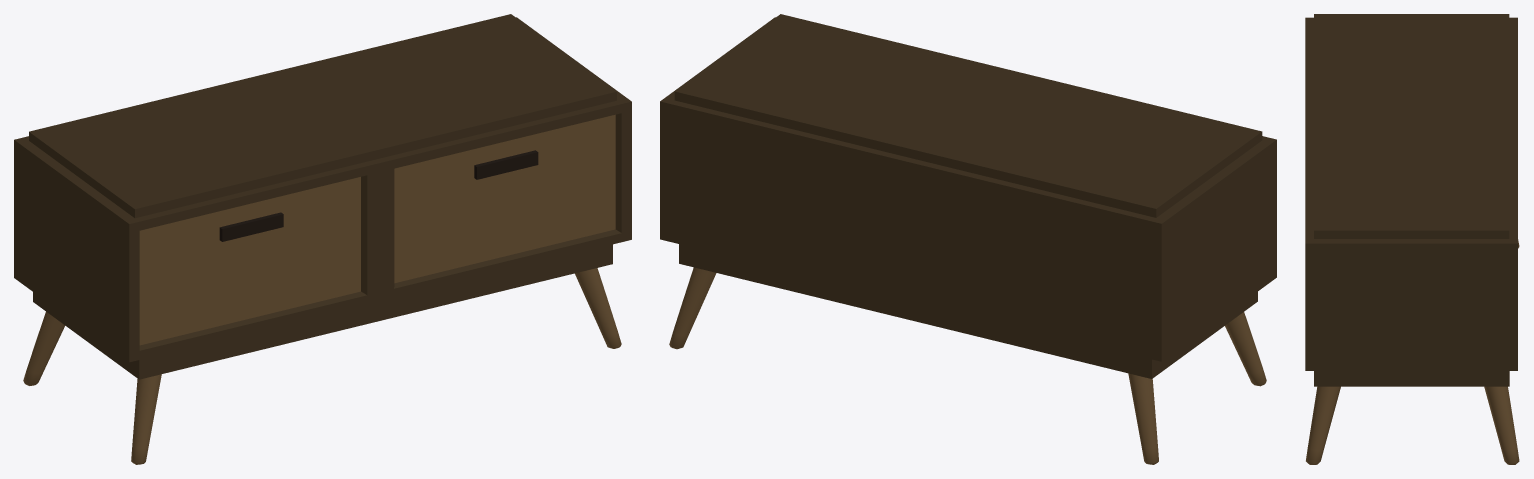
Rendered from q-drawer-1.glb.
3 renders of one model, left to right at view 1: azimuth 30°, elevation 25°; view 2: azimuth 150°, elevation 25°; view 3: azimuth 270°, elevation 25°, orthographic. The views are drawn at different scales.
Parts seen in each view (by area): view 1: Drawer_1; view 2: Drawer_1; view 3: Drawer_1.
Boxes of the visible parts, left/top/right/bottom form: Drawer_1: left=14, top=14, right=631, bottom=464; Drawer_1: left=660, top=14, right=1276, bottom=464; Drawer_1: left=1305, top=14, right=1519, bottom=464.
Bounding box in the file's own units: 2.79 × 1.35 × 1.12.
